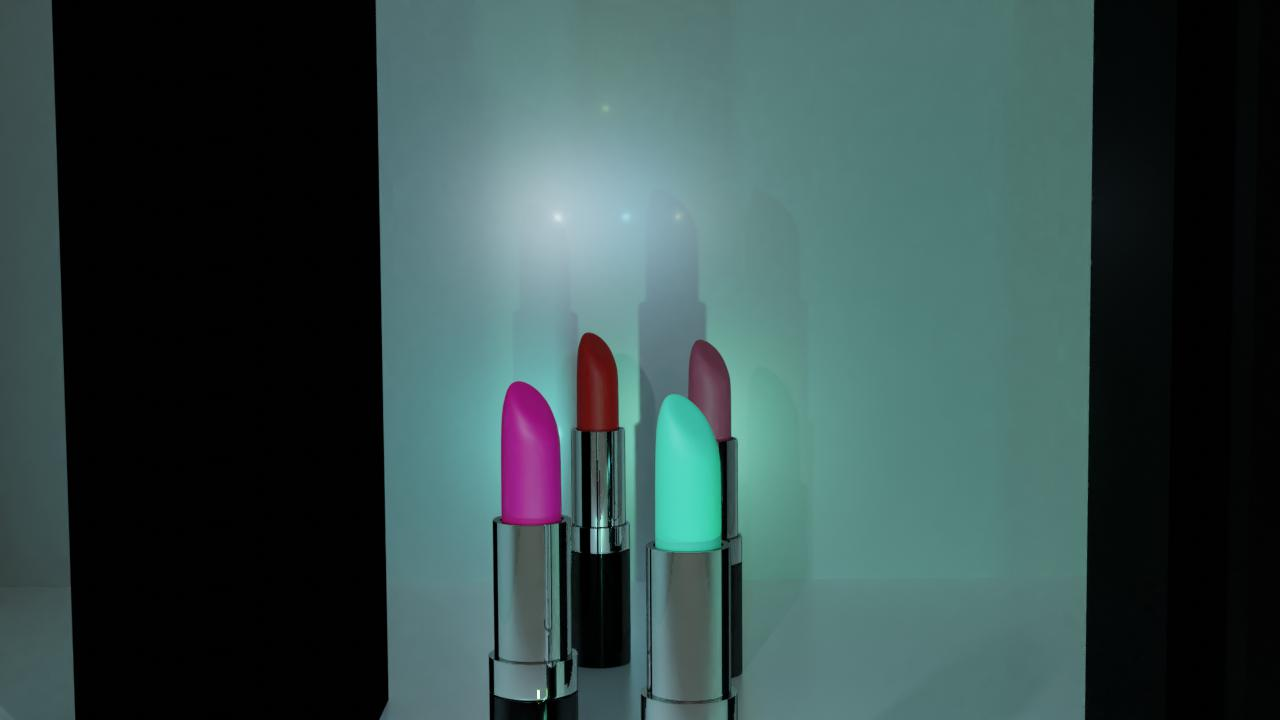CLASSIFIER_NAME: (640, 388, 740, 720), (487, 375, 580, 720), (567, 328, 631, 669)
